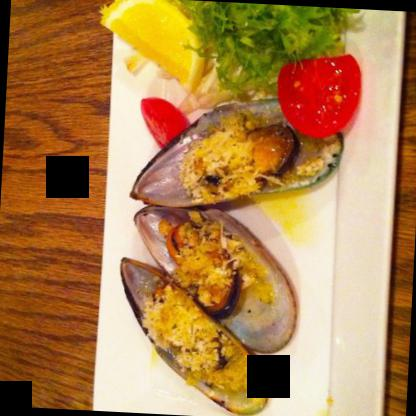mussel: (116, 198, 301, 350), (130, 90, 352, 214), (115, 256, 281, 414)
